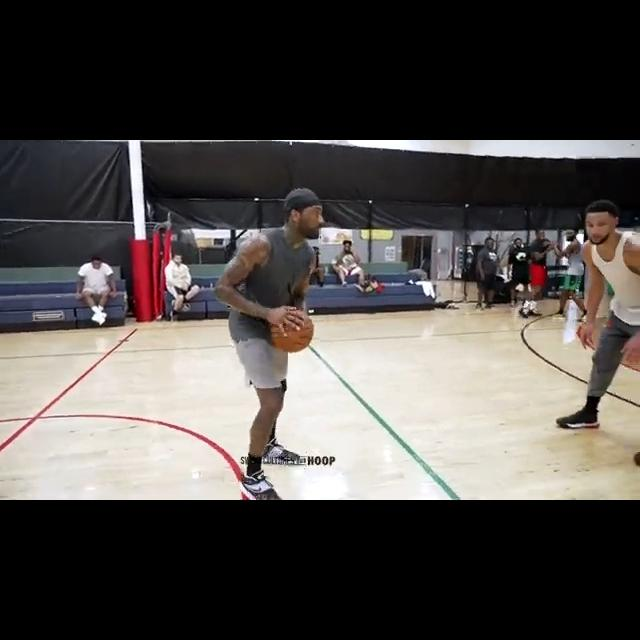basketball: (267, 309, 315, 354)
person: (214, 183, 323, 499), (556, 200, 640, 431), (551, 224, 586, 322), (74, 255, 118, 326), (521, 225, 551, 317), (162, 253, 202, 321), (471, 237, 503, 313), (503, 236, 536, 308), (332, 241, 370, 293)
